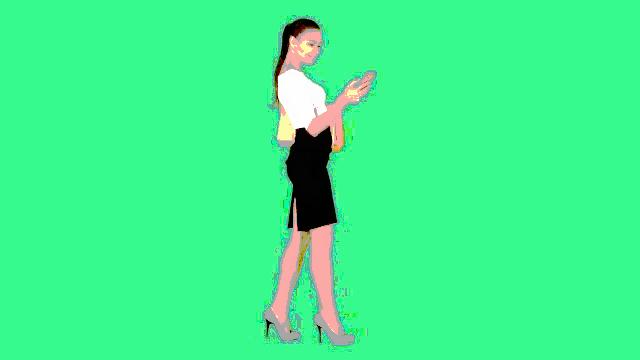berjalan: (265, 8, 373, 346)
